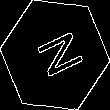N_SW: (27, 26, 83, 84)
